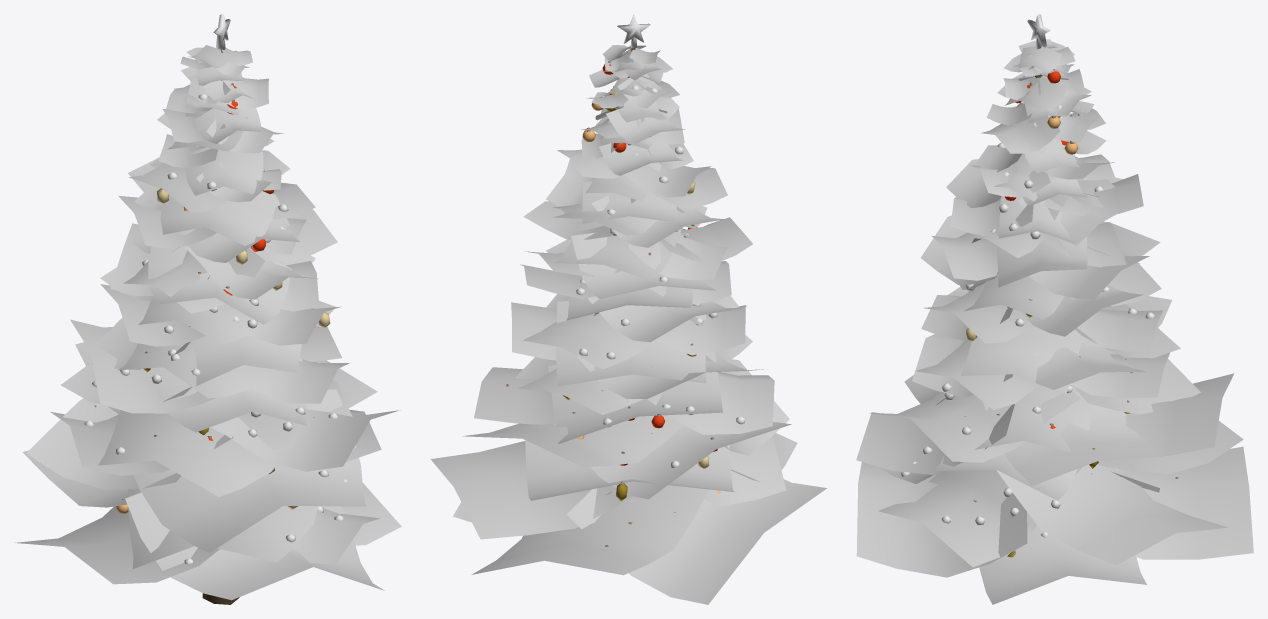
Rendered from  ChristmasTree.fbx.
3 renders of one model, left to right at view 1: azimuth 30°, elevation 25°; view 2: azimuth 150°, elevation 25°; view 3: azimuth 270°, elevation 25°, orthographic. The views are drawn at different scales.
Visible parts, largest first — view 1: Christmastree, Decor; view 2: Christmastree, Decor; view 3: Christmastree, Decor.
Part boxes in pixels (x1,y1,x2,y2): Christmastree: (15,45,401,604); Decor: (84,14,347,564); Christmastree: (430,45,827,604); Decor: (506,14,745,546); Christmastree: (856,39,1253,604); Decor: (901,14,1178,557).
Bounding box in the file's own units: 3.78 × 6.36 × 4.05.
